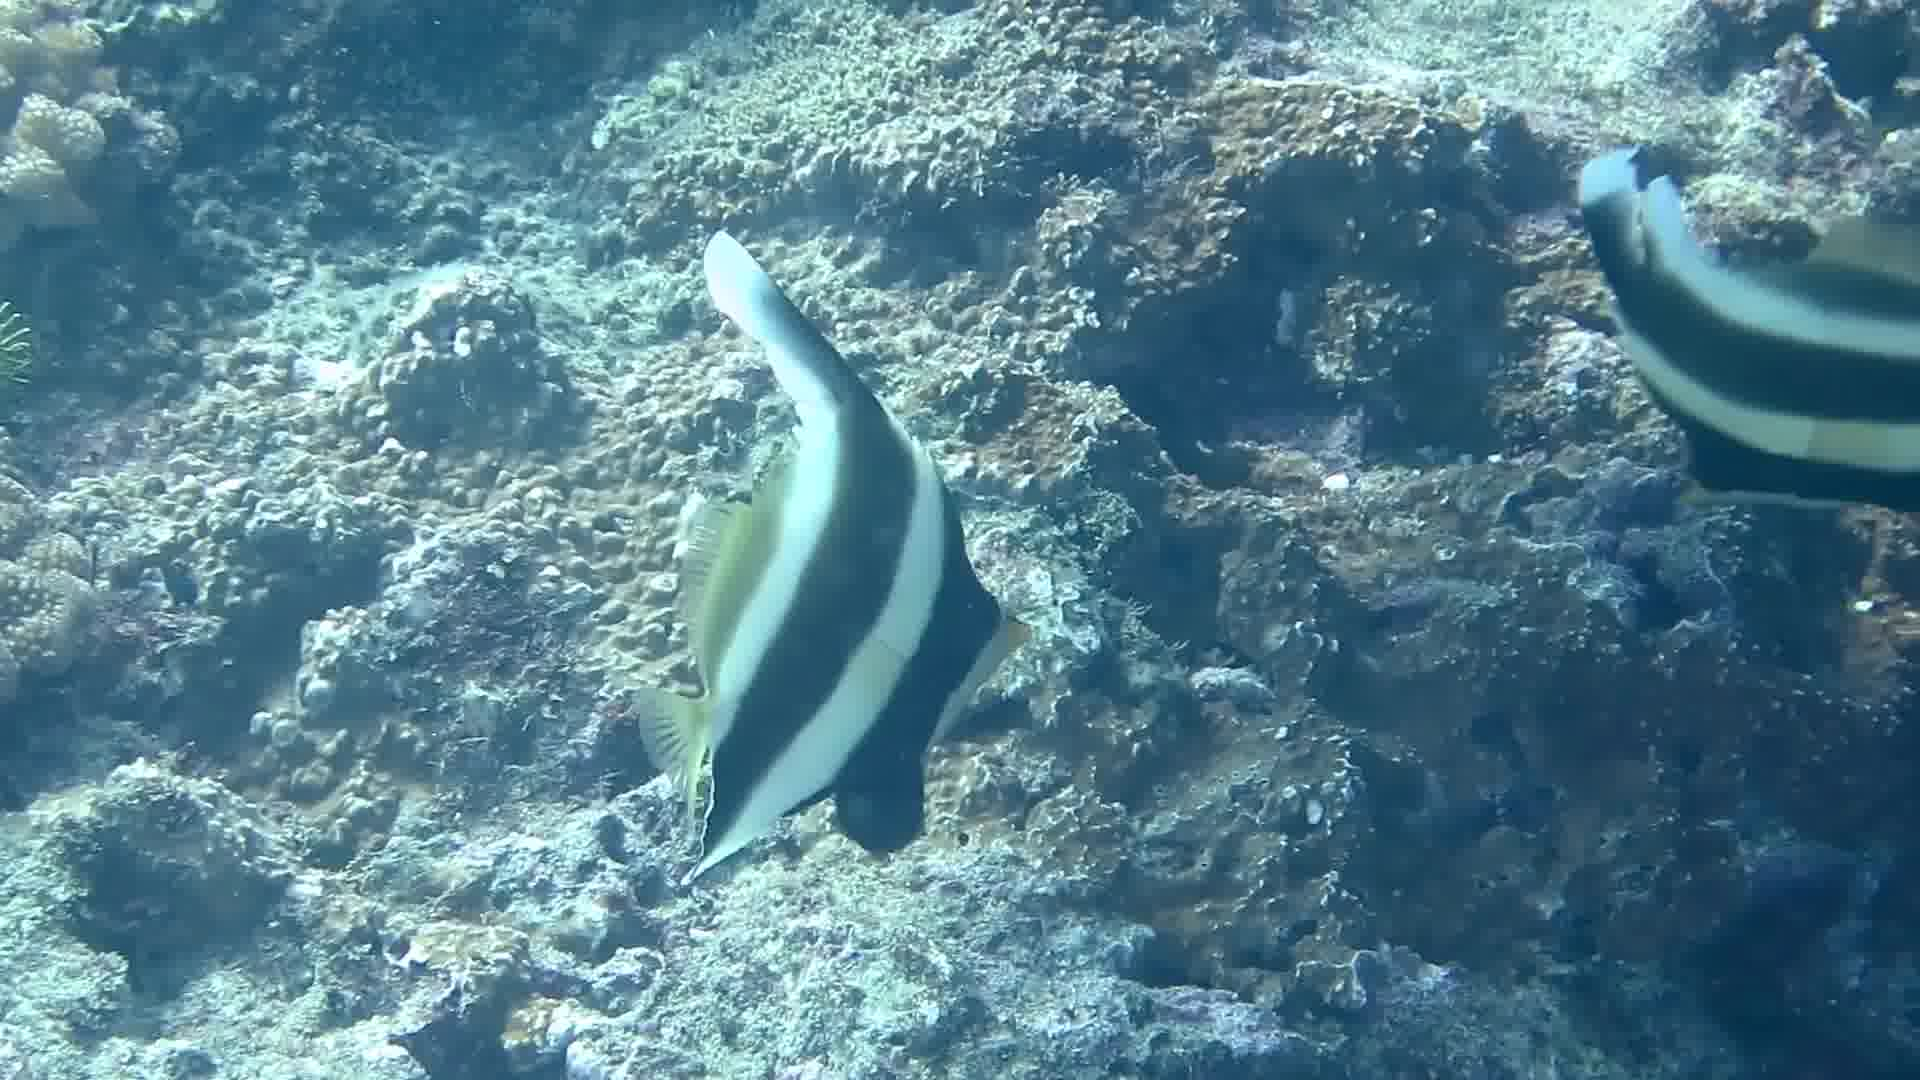Heniochus chrysostomus: (563, 183, 1105, 951)
